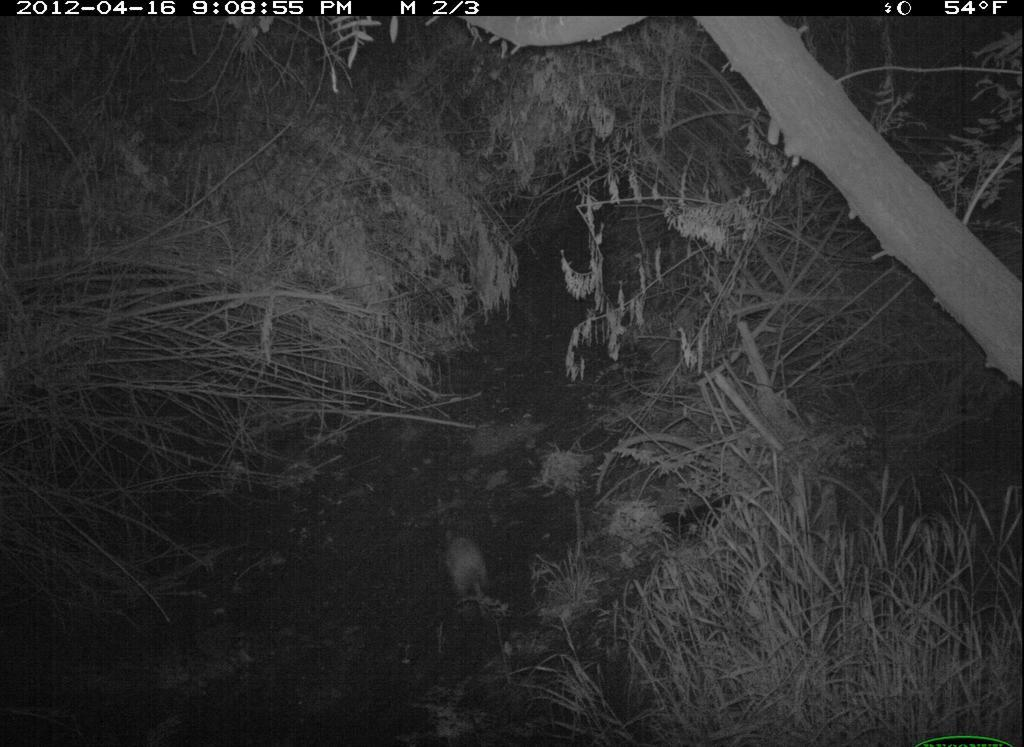opossum: (429, 513, 510, 633)
